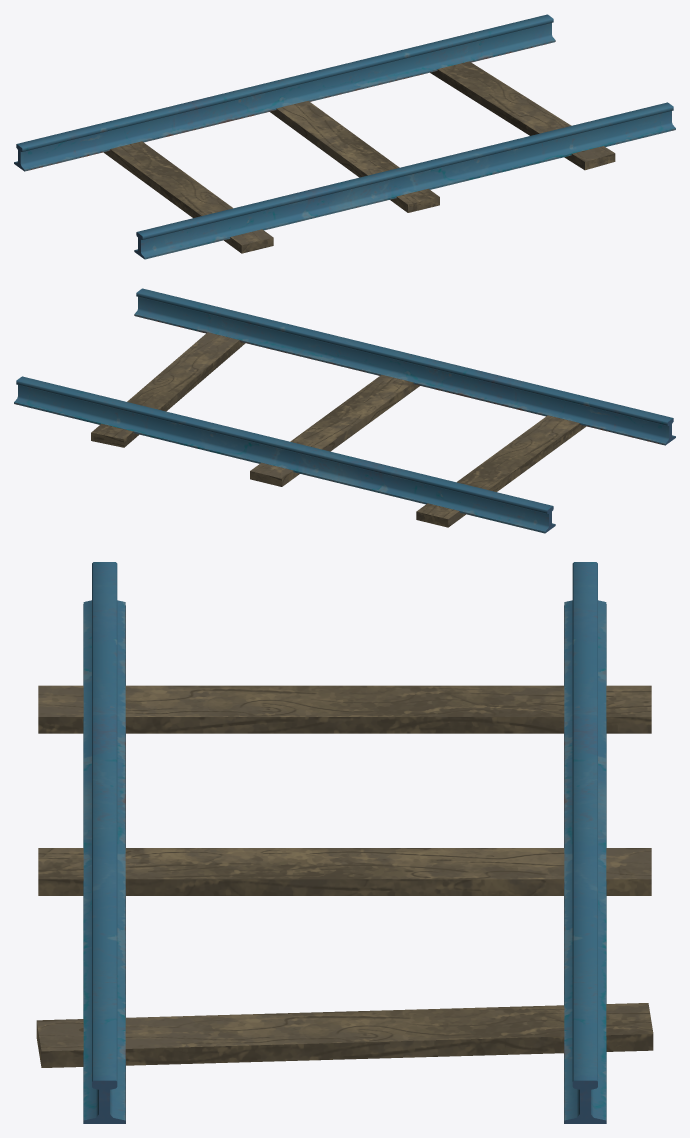
File: Rain_way.fbx
3 renders of one model, top to bottom at view 1: azimuth 30°, elevation 25°; view 2: azimuth 150°, elevation 25°; view 3: azimuth 270°, elevation 25°, orthographic. The views are drawn at different scales.
Visible parts, largest first — view 1: Train_way; view 2: Train_way; view 3: Train_way.
Boxes of the visible parts, bbox=[...] form: Train_way: bbox=[14, 14, 675, 259]; Train_way: bbox=[14, 288, 675, 533]; Train_way: bbox=[36, 562, 653, 1123].
Size of the model in its own units: 400 by 20.45 by 201.
